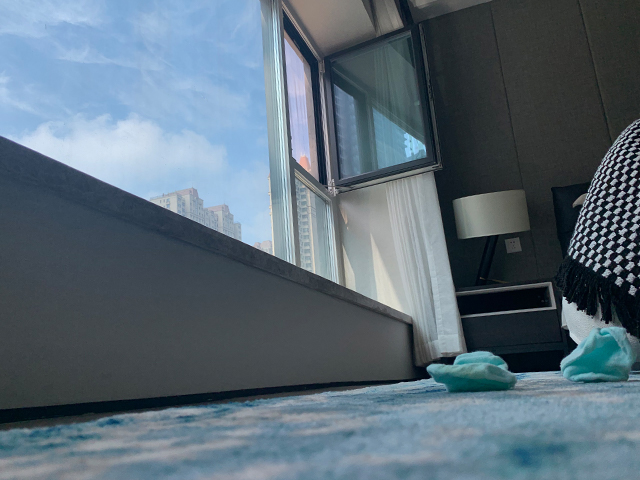bed: (548, 117, 640, 374)
cabinet: (453, 275, 572, 372)
carpet: (1, 369, 640, 480)
curtain: (375, 1, 461, 368)
socks: (558, 324, 640, 387), (424, 348, 520, 395)
